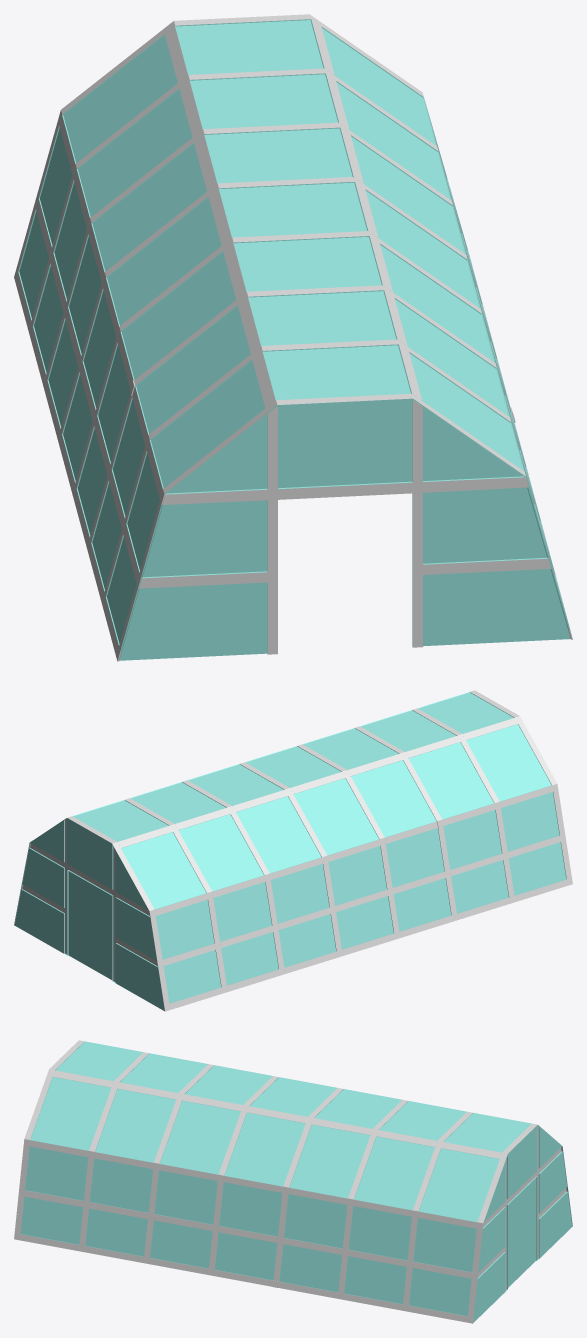
Rendered from Greenhouse.fbx.
3 views of the same model, one above another, from view 1: azimuth 30°, elevation 25°; view 2: azimuth 150°, elevation 25°; view 3: azimuth 270°, elevation 25° (orthographic). The views are drawn at different scales.
Visible parts, largest first — view 1: Plane.041; view 2: Plane.041; view 3: Plane.041.
Part boxes in pixels (left/top/right/bottom): Plane.041: left=14, top=14, right=572, bottom=661; Plane.041: left=14, top=690, right=572, bottom=1011; Plane.041: left=14, top=1040, right=572, bottom=1323.
Bounding box in the file's own units: 1983 × 694 × 2581.
